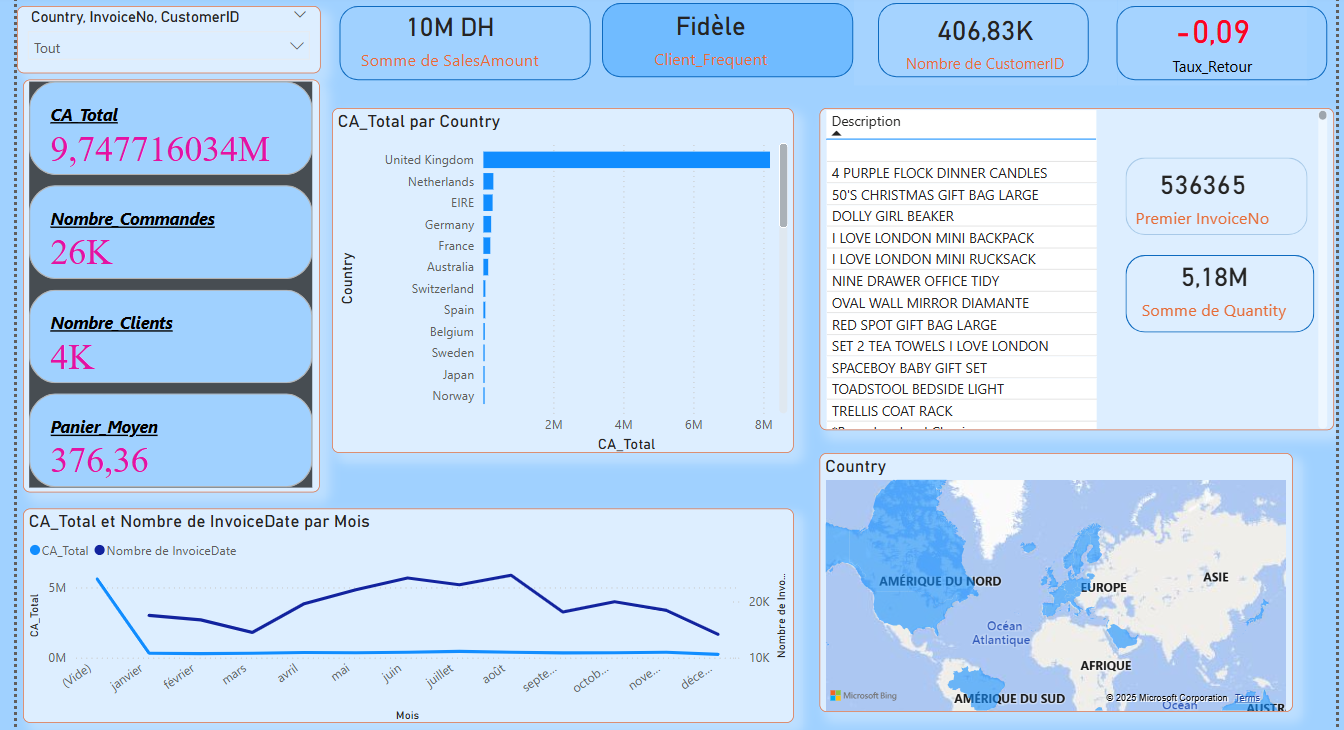

What the dashboard file says about the page in this screenshot:
{"tool":"powerbi","page":{"name":"Page 2","canvas":[1280,720],"ordinal":1},"visuals":[{"type":"slicer","fields":{"Values":["data.Country","data.InvoiceNo","data.CustomerID"]},"box":[0,11.5,294.5,65.4],"z":0},{"type":"cardVisual","fields":{"Data":["data.CA_Total","data.Nombre_Commandes","data.Nombre_Clients","data.Panier_Moyen"]},"box":[6.5,83.4,288,400.9],"z":1000},{"type":"lineChart","fields":{"Category":["data.InvoiceDate.Variation.Hiérarchie de dates.Mois"],"Y":["data.CA_Total"],"Y2":["CountNonNull(data.InvoiceDate)"]},"box":[5.8,499.3,748.2,208.1],"z":2000},{"type":"clusteredBarChart","fields":{"Category":["data.Country"],"Y":["data.CA_Total"]},"box":[305.7,110.6,448.3,334.8],"z":3000},{"type":"card","fields":{"Values":["CountNonNull(data.CustomerID)"]},"box":[811.5,0,255.2,88.4],"z":4000},{"type":"shape","box":[836.1,8.2,204.5,72],"z":5000},{"type":"shape","box":[312.5,11.5,243.8,72],"z":6000},{"type":"shape","box":[567.7,8.2,243.8,72],"z":7000},{"type":"card","fields":{"Values":["data.Client_Frequent"]},"box":[567.7,1.6,211.1,78.5],"z":8000},{"type":"card","fields":{"Values":["Sum(data.SalesAmount)"]},"box":[216,3.3,409,76.9],"z":9000},{"type":"filledMap","fields":{"Category":["data.Country"]},"box":[778.8,445,459,251],"z":10000},{"type":"card","fields":{"Values":["data.Taux_Retour"]},"box":[1068.4,0,183.2,88.4],"z":11000},{"type":"shape","box":[1066.8,11.5,204.5,72],"z":12000},{"type":"shape","box":[1074.9,158.7,176.7,75.3],"z":13000},{"type":"tableEx","fields":{"Values":["data.Description"]},"box":[778.7,110.6,499.3,312.9],"z":14000},{"type":"card","fields":{"Values":["Min(data.InvoiceNo)"]},"box":[1068.4,150.5,163.6,90],"z":15000},{"type":"card","fields":{"Values":["Sum(data.Quantity)"]},"box":[1068.4,230.7,186.5,108],"z":16000},{"type":"shape","box":[1074.9,253.6,183.2,75.3],"z":17000}]}

Visuals, with their boxes on the page's 1280x720 design canvas (x1, y1, x2, y2). These are canvas units, not pixel positions in the 1344x730 screenshot, which may show the page scaled, cropped or inside an application window:
slicer - data.Country x data.InvoiceNo: bbox=(0, 12, 294, 77)
cardVisual - data.CA_Total x data.Nombre_Commandes: bbox=(6, 83, 294, 484)
lineChart - data.InvoiceDate.Variation.Hiérarchie de dates.Mois x data.CA_Total: bbox=(6, 499, 754, 707)
clusteredBarChart - data.Country x data.CA_Total: bbox=(306, 111, 754, 445)
card - CountNonNull(data.CustomerID): bbox=(812, 0, 1067, 88)
shape: bbox=(836, 8, 1041, 80)
shape: bbox=(312, 12, 556, 84)
shape: bbox=(568, 8, 812, 80)
card - data.Client_Frequent: bbox=(568, 2, 779, 80)
card - Sum(data.SalesAmount): bbox=(216, 3, 625, 80)
filledMap - data.Country: bbox=(779, 445, 1238, 696)
card - data.Taux_Retour: bbox=(1068, 0, 1252, 88)
shape: bbox=(1067, 12, 1271, 84)
shape: bbox=(1075, 159, 1252, 234)
tableEx - data.Description: bbox=(779, 111, 1278, 424)
card - Min(data.InvoiceNo): bbox=(1068, 150, 1232, 240)
card - Sum(data.Quantity): bbox=(1068, 231, 1255, 339)
shape: bbox=(1075, 254, 1258, 329)
